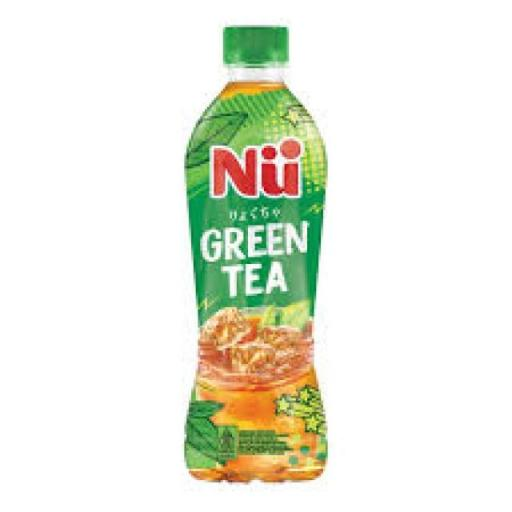plastic: (182, 16, 330, 483)
